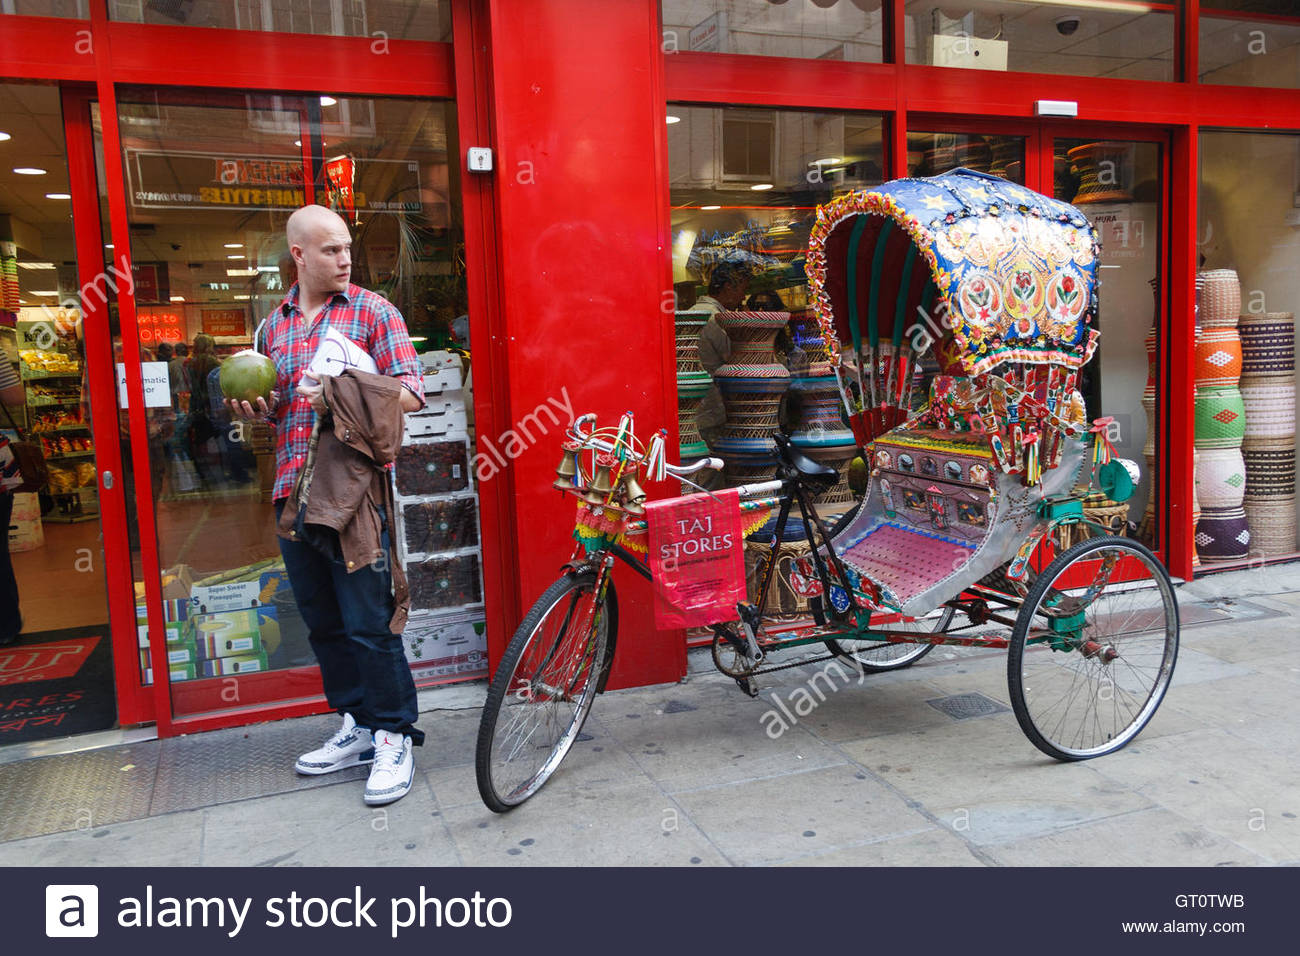Rickshaw: (424, 148, 1181, 825)
